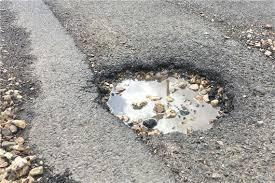pothole: (91, 57, 232, 140)
